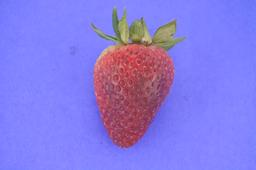red strawberry: (92, 16, 175, 150)
